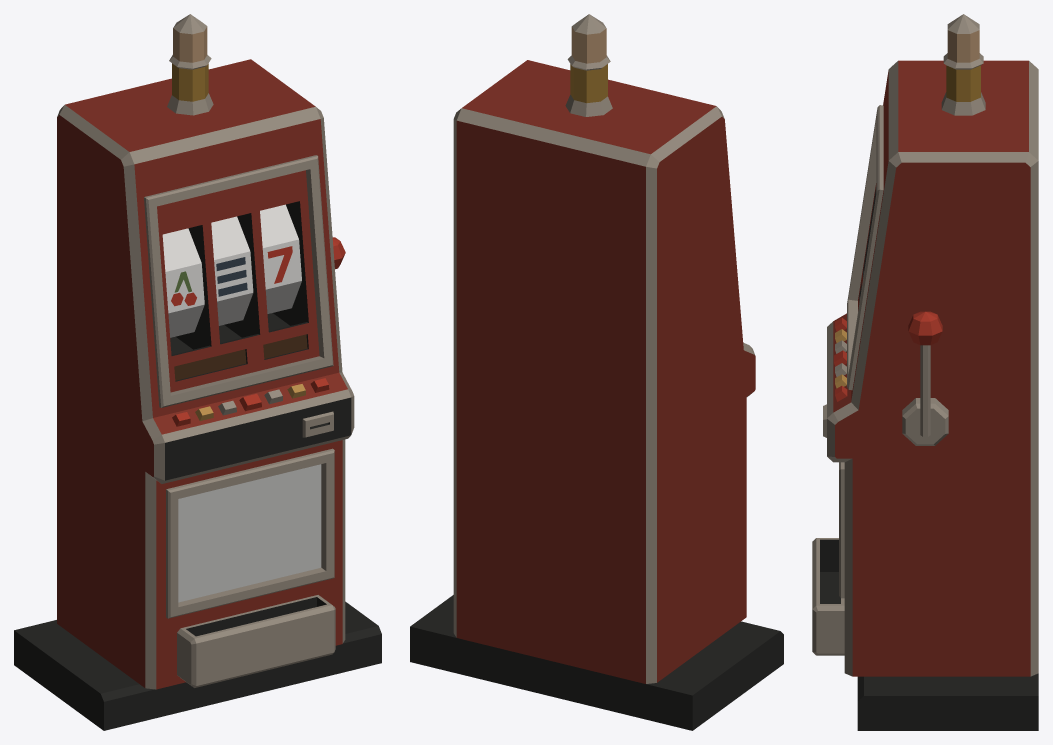
File: classic-reel-slot-machine-8e790e.glb
3 views of the same model, side by side, from view 1: azimuth 30°, elevation 25°; view 2: azimuth 150°, elevation 25°; view 3: azimuth 270°, elevation 25° (orthographic).
Parts seen in each view (by area): view 1: cabinet, reel-2-drum, reel-1-drum, reel-3-drum; view 2: cabinet; view 3: cabinet, lever-arm.
Part boxes in pixels (x1,y1,x2,y2): cabinet: (14, 14, 381, 730); reel-2-drum: (211, 216, 253, 325); reel-1-drum: (162, 228, 204, 337); reel-3-drum: (260, 204, 301, 313); cabinet: (410, 14, 783, 730); cabinet: (812, 14, 1038, 730); lever-arm: (902, 311, 948, 445).
Bounding box in the file's own units: 1 × 2.21 × 0.7.
